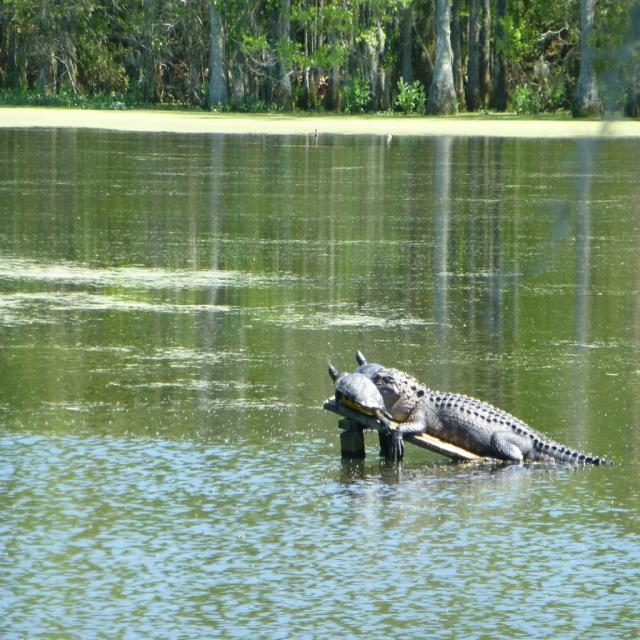crocodile: (301, 335, 628, 503)
